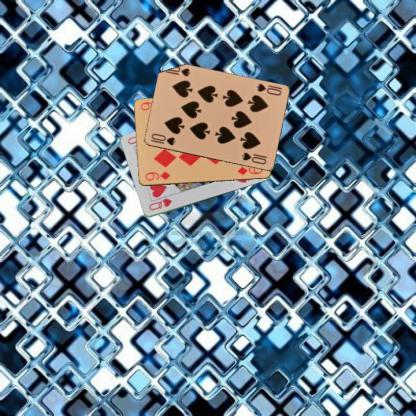10s: (148, 130, 176, 146), (254, 81, 282, 97)
9d: (142, 169, 172, 182)
Qh: (146, 196, 174, 212)
